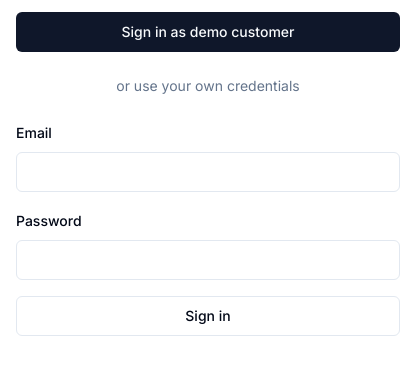
Scenario: SignInForm › surfaces an error when credentials are rejected
In the field labelled "Email": (208, 172) [16, 152, 400, 192], type "nobody@example.com"
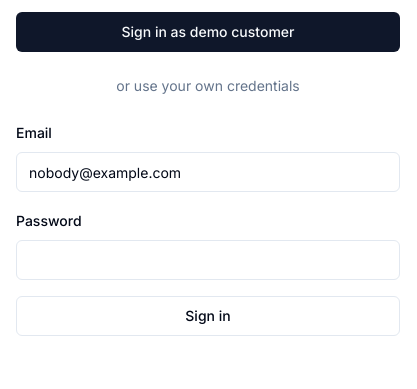
In the password field labelled "Password": (208, 260) [16, 240, 400, 280], type "wrong"
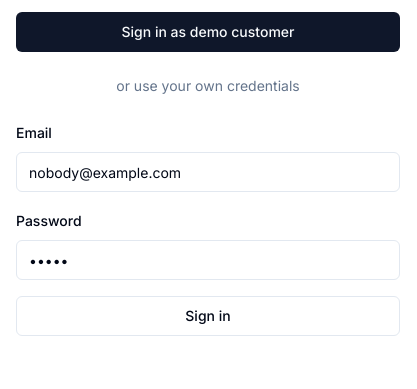
Click the button "Sign in": (208, 316) [16, 296, 400, 336]
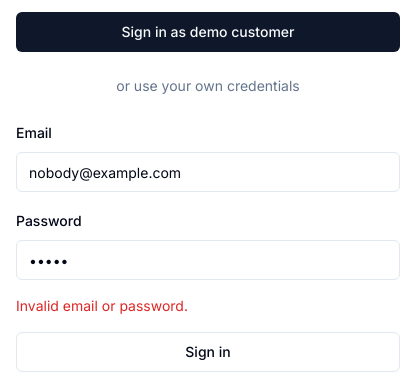
expect the message shows "Invalid email or password": met, box [16, 297, 188, 314]
